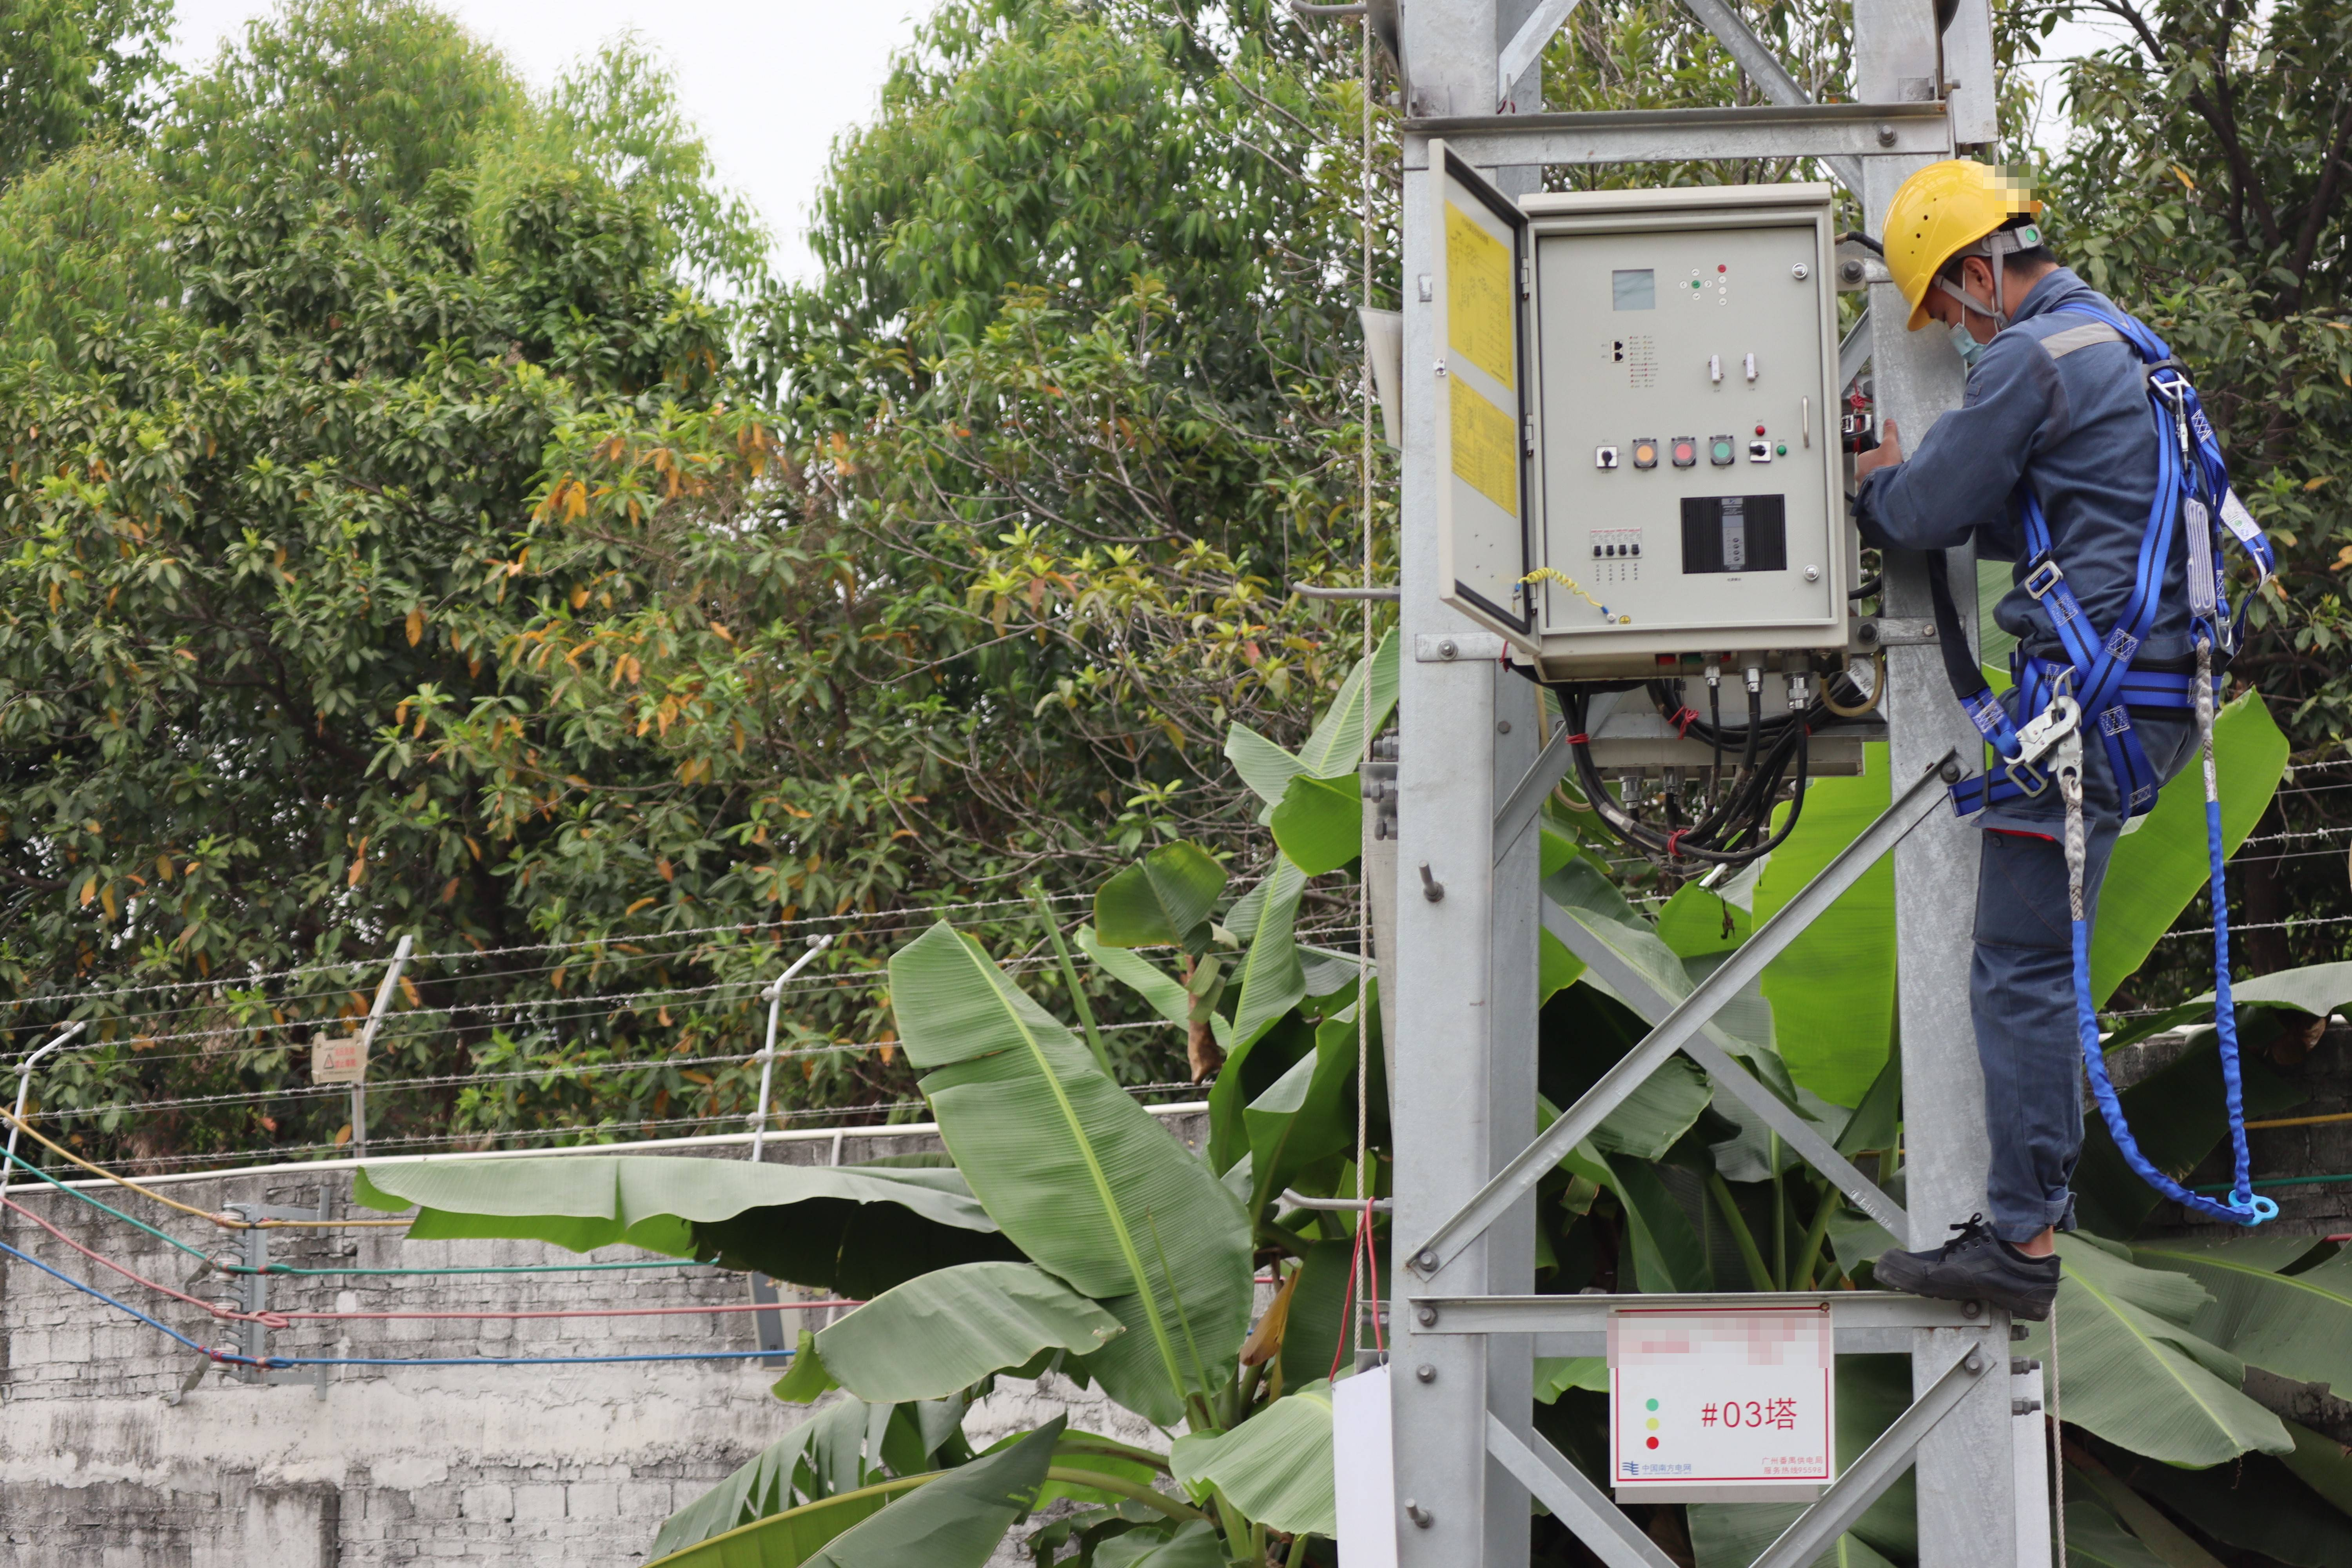downsuit: (1956, 677, 2208, 1225)
upsuit: (1864, 269, 2250, 686)
